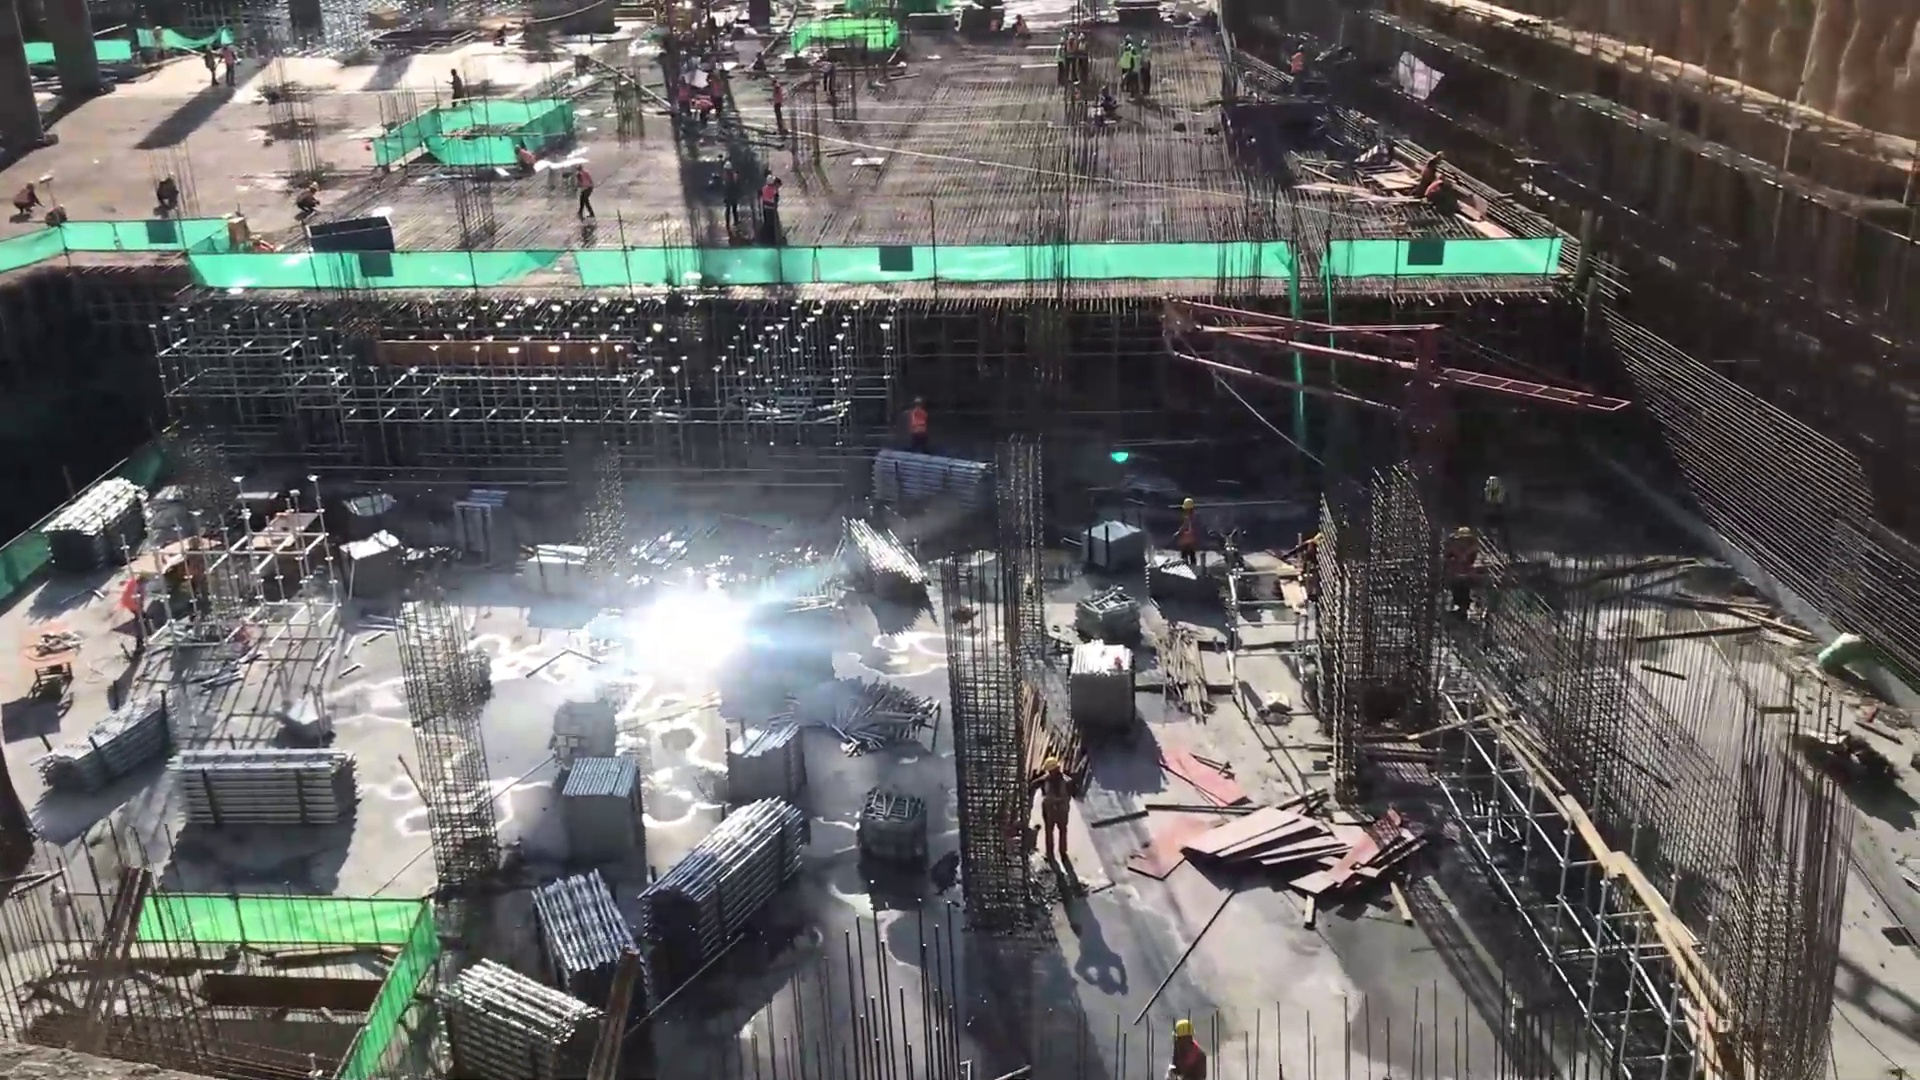helmet: (1035, 749, 1062, 772)
hopper: (295, 213, 403, 256)
person: (1036, 756, 1074, 872), (1164, 1017, 1214, 1076), (1422, 150, 1458, 214), (1058, 26, 1096, 79), (1117, 40, 1155, 92), (715, 157, 742, 224), (1173, 498, 1201, 555), (760, 168, 787, 222), (907, 399, 934, 450), (299, 182, 324, 219)
scaffold: (647, 790, 802, 966), (431, 951, 610, 1072), (527, 863, 654, 1018), (166, 745, 374, 834), (37, 694, 181, 785), (556, 741, 652, 861), (51, 478, 151, 570), (860, 447, 1008, 509), (720, 709, 816, 801), (1060, 626, 1139, 723)
